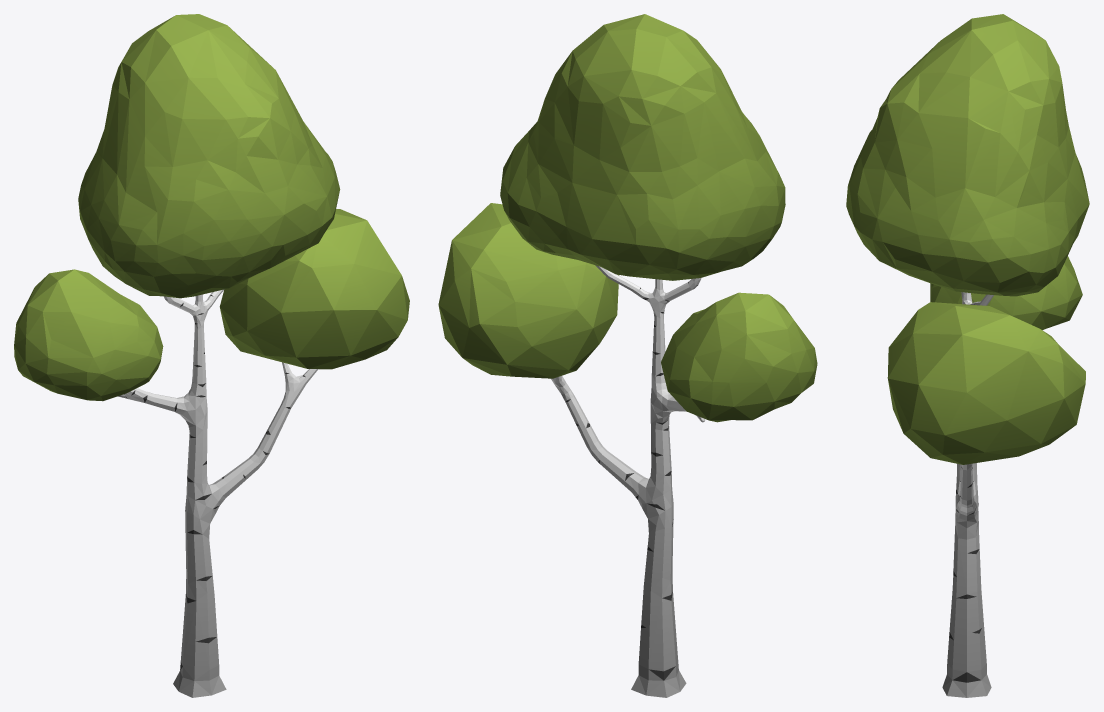
File: Summer_Tree_14.glb
3 renders of one model, left to right at view 1: azimuth 30°, elevation 25°; view 2: azimuth 150°, elevation 25°; view 3: azimuth 270°, elevation 25°, orthographic. The views are drawn at different scales.
Parts seen in each view (by area): view 1: Summer_Tree_14_LOD0; view 2: Summer_Tree_14_LOD0; view 3: Summer_Tree_14_LOD0.
Part boxes in pixels (x1,y1,x2,y2): Summer_Tree_14_LOD0: (14, 14, 409, 697); Summer_Tree_14_LOD0: (438, 14, 817, 697); Summer_Tree_14_LOD0: (846, 14, 1089, 697).
Size of what is drawn, in the model's own units: 4.52 by 7.82 by 2.59.
Materials: 1 (1 with a texture image).
